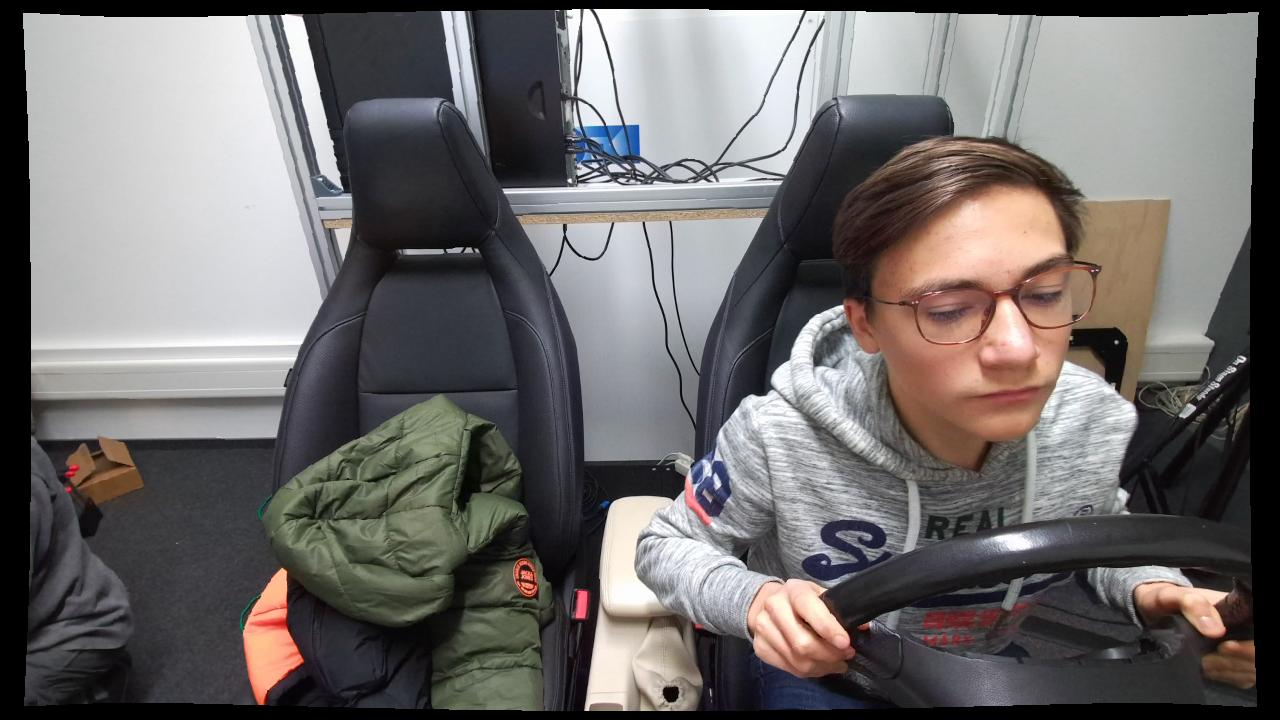Distracted: (633, 136, 1140, 713)
